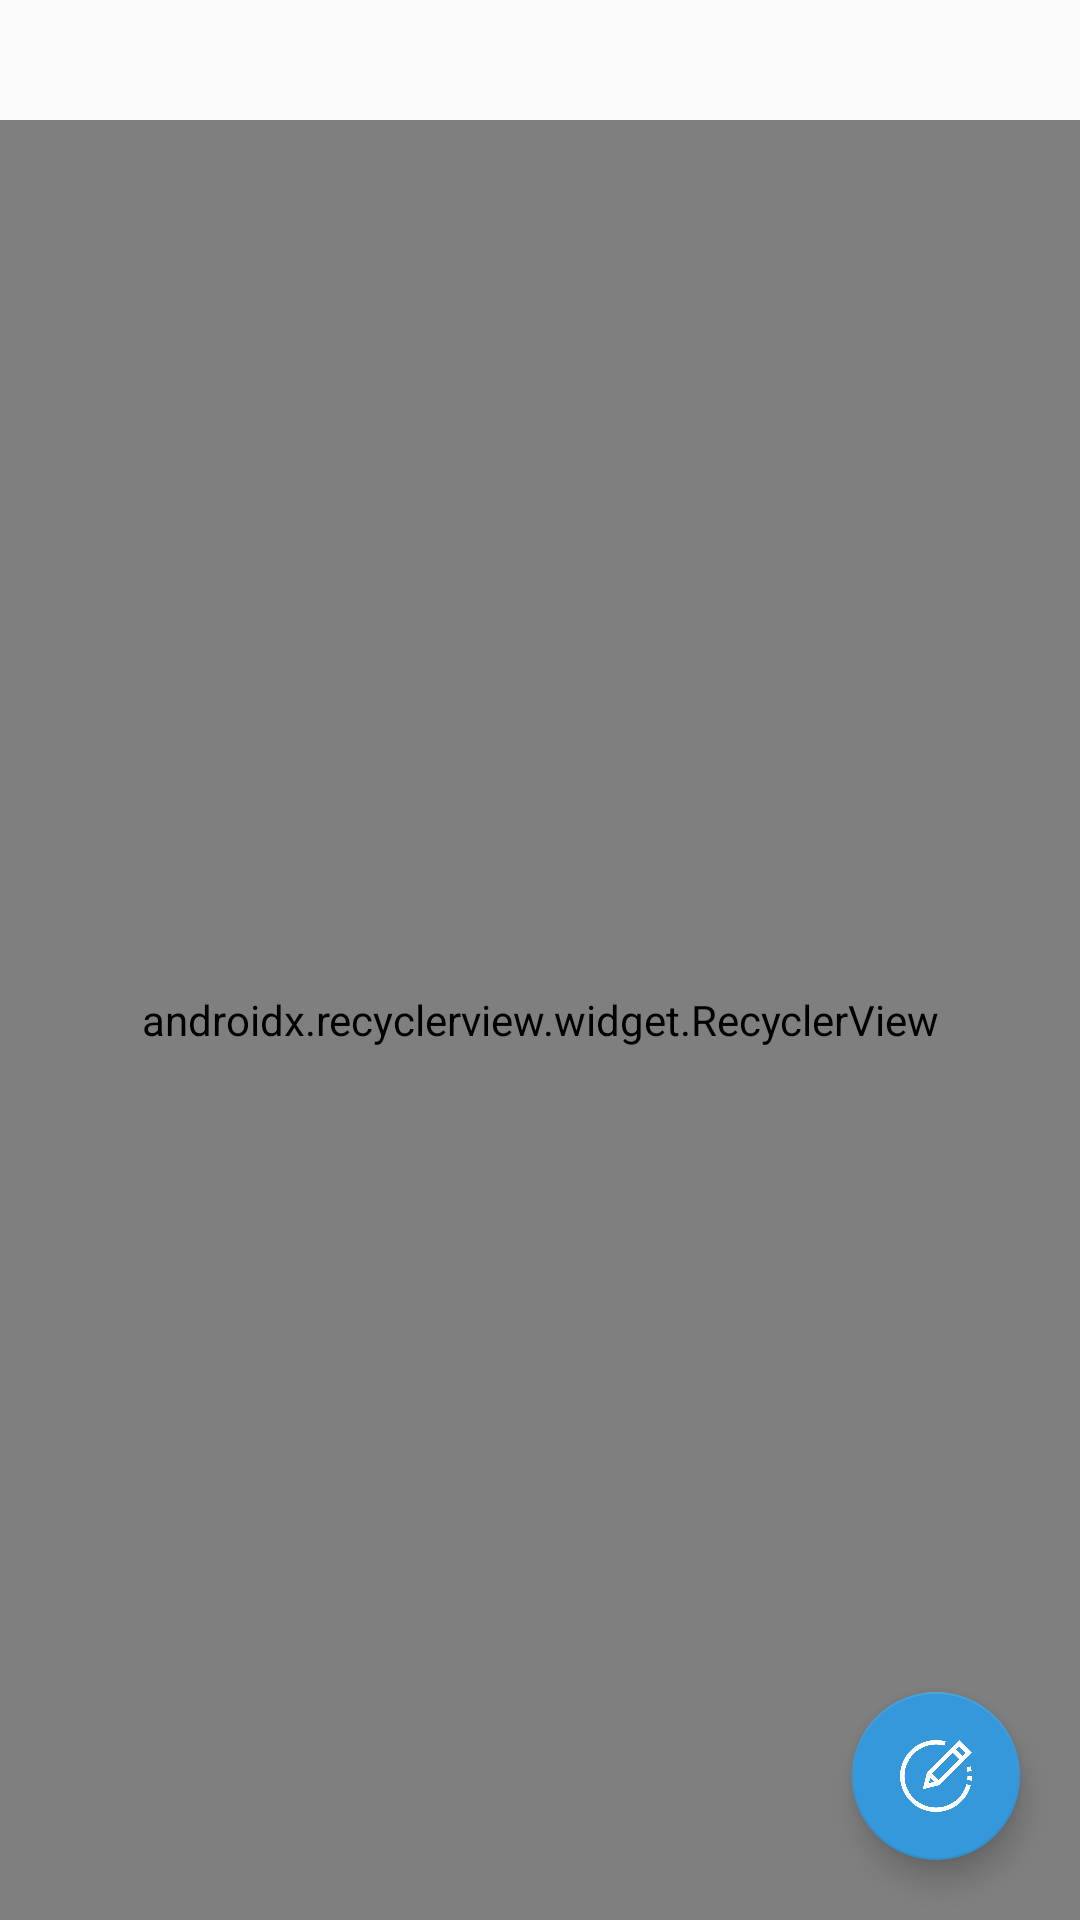

Point at icon controls on the screen. Image size 1080*1920, points as point (x, y).
compose: point (936, 1776)
